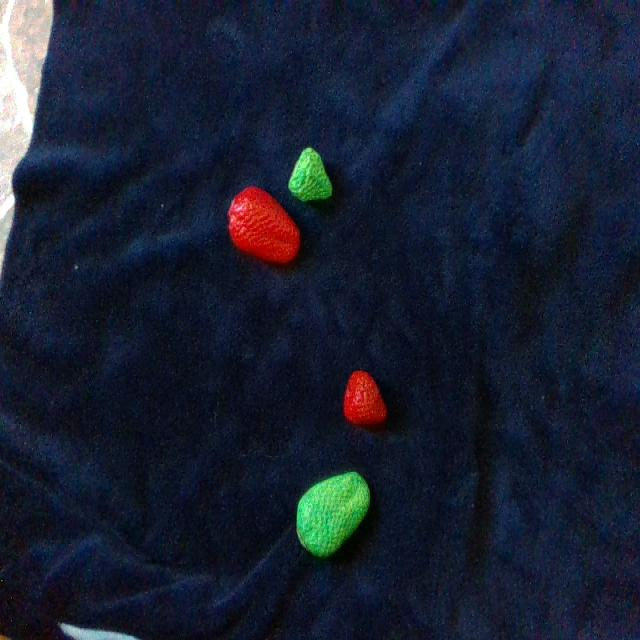chica_roja: (344, 371, 386, 427)
grande_roja: (229, 187, 299, 263)
verde: (297, 472, 369, 556), (289, 148, 332, 200)
